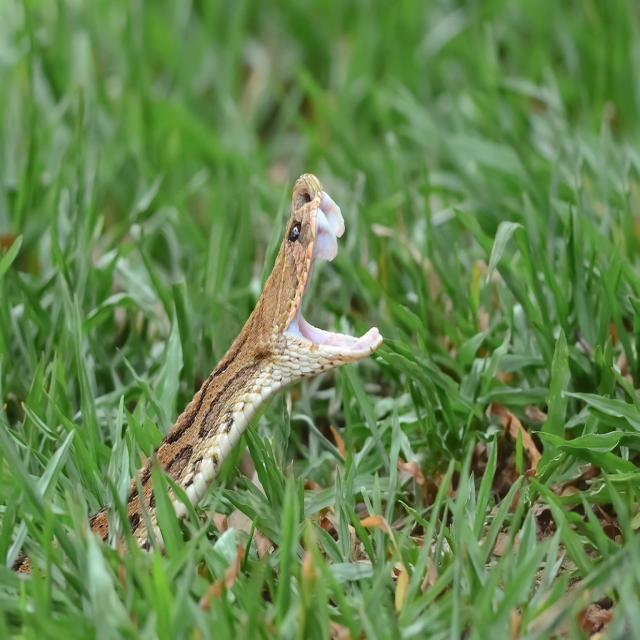Snake: (14, 162, 386, 588)
